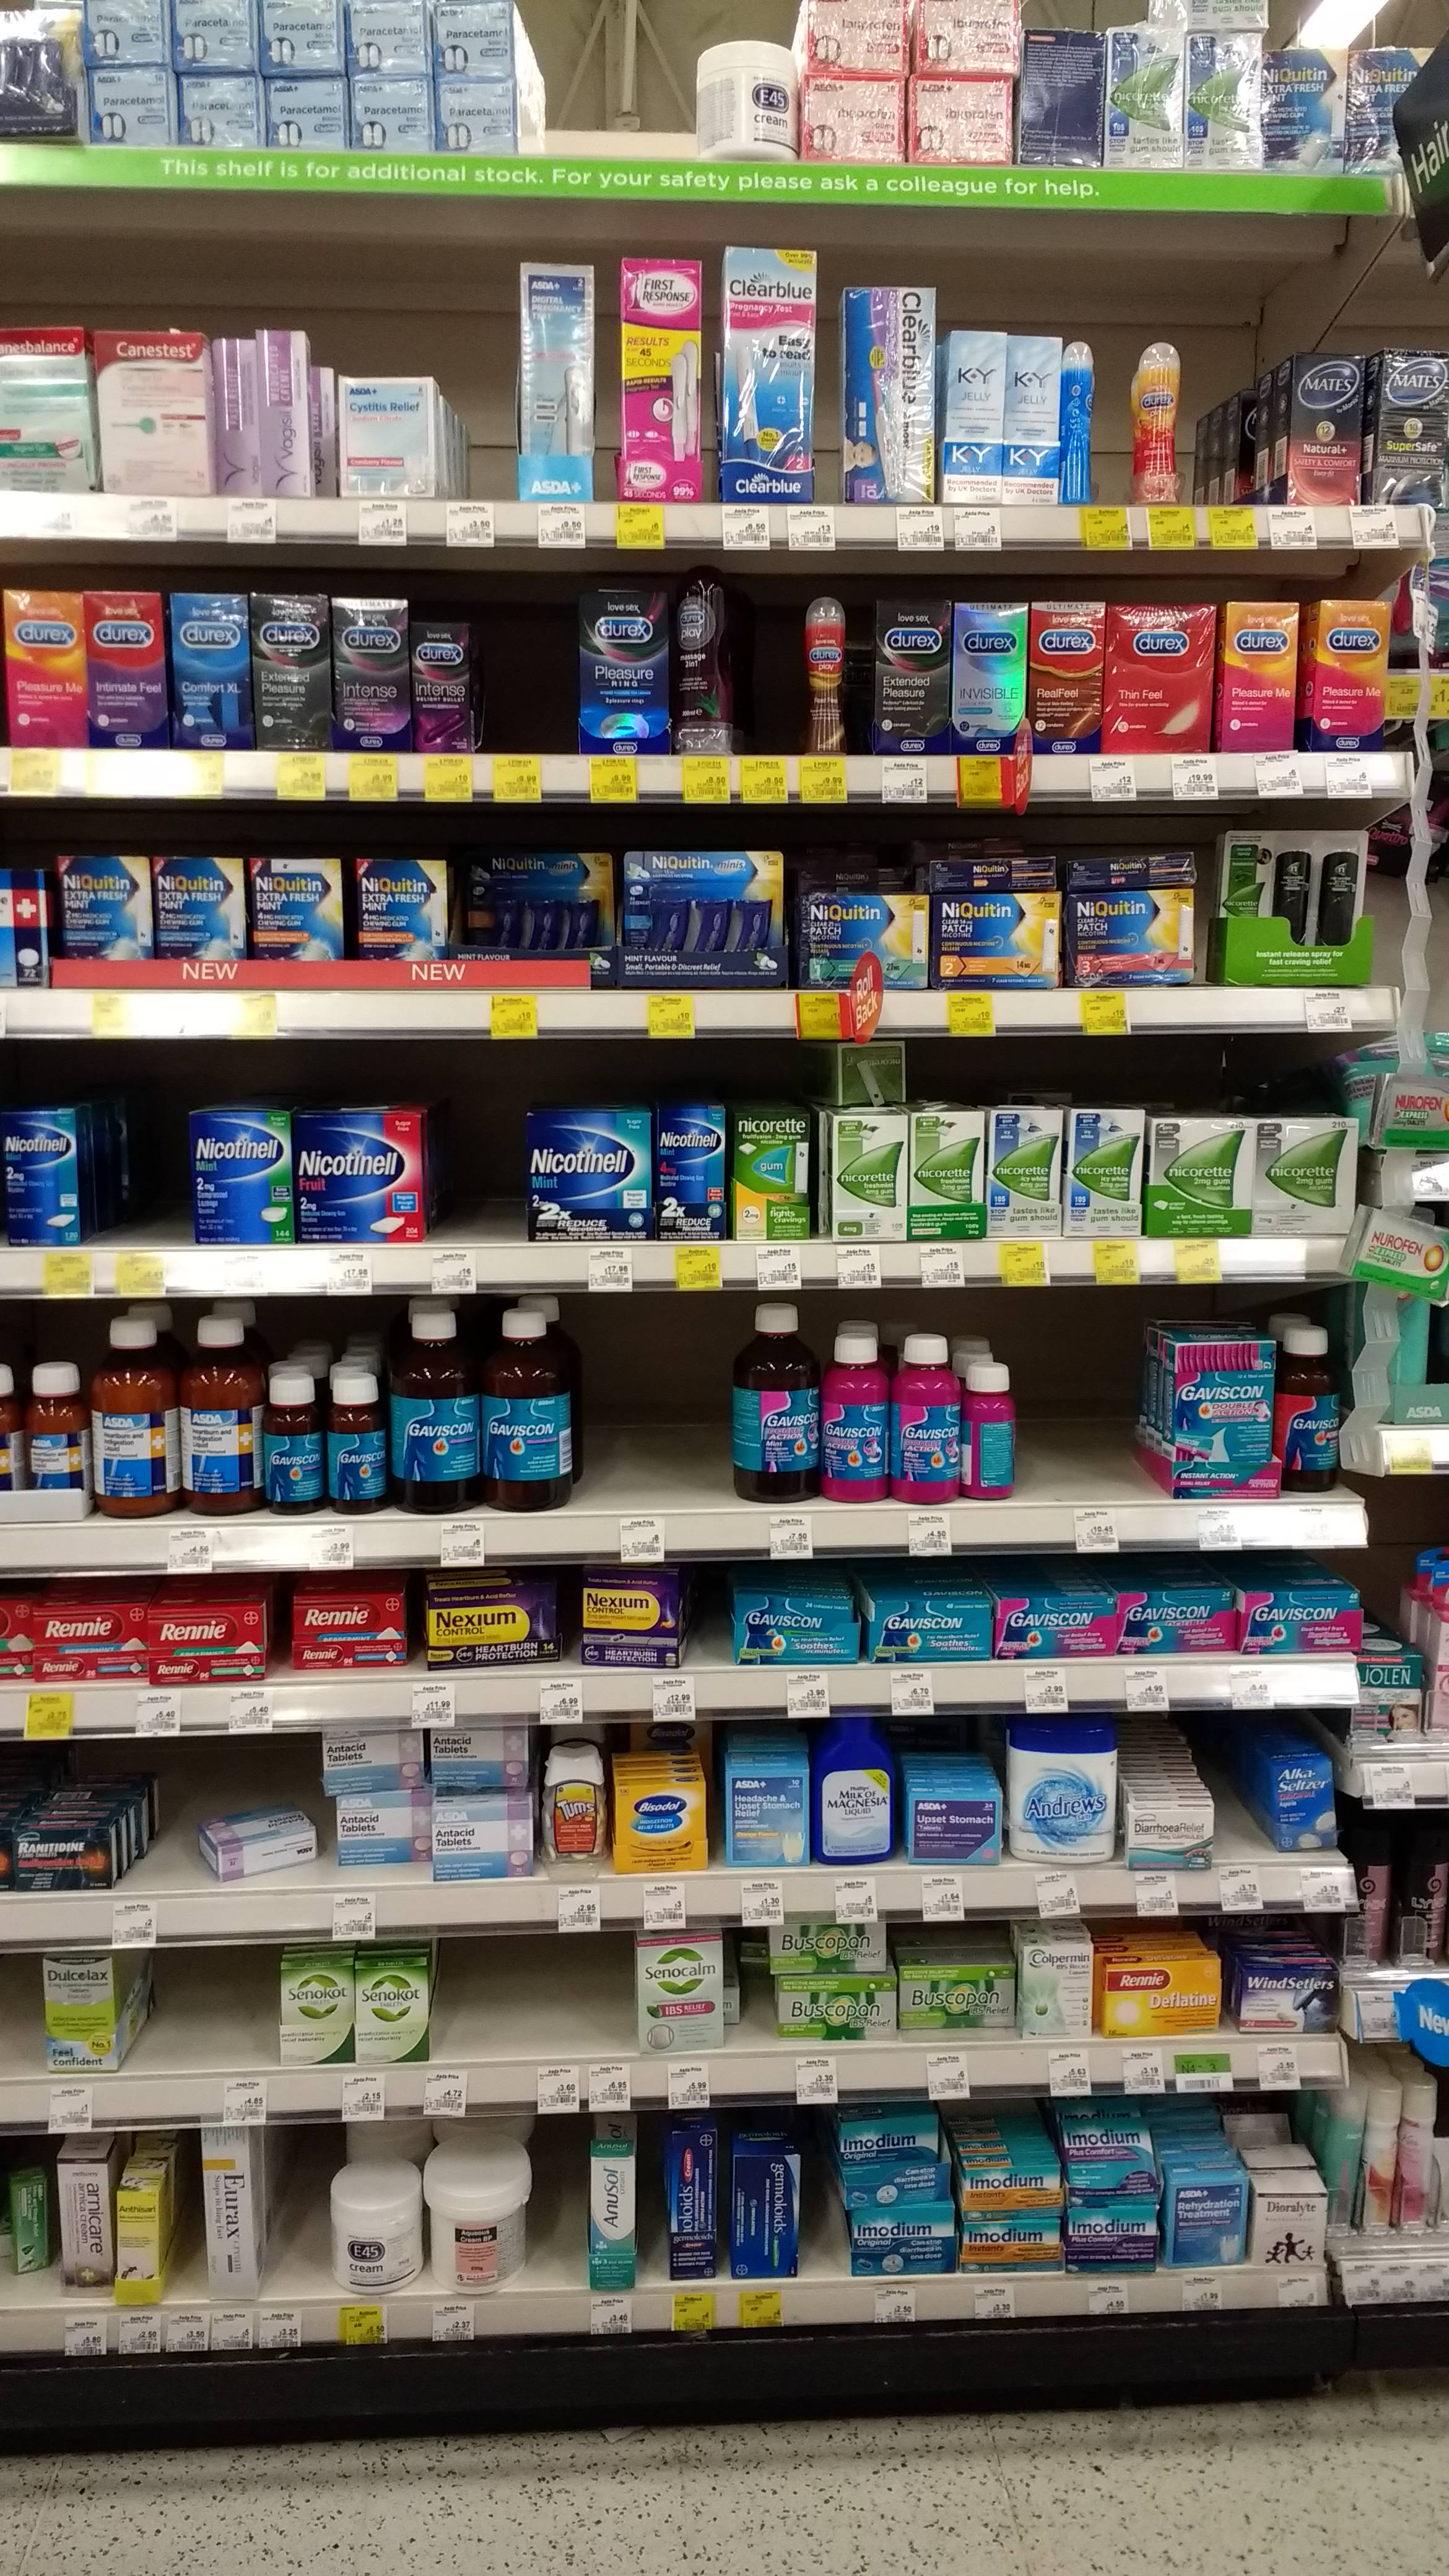Out-of-stock: (582, 1293, 736, 1511)
